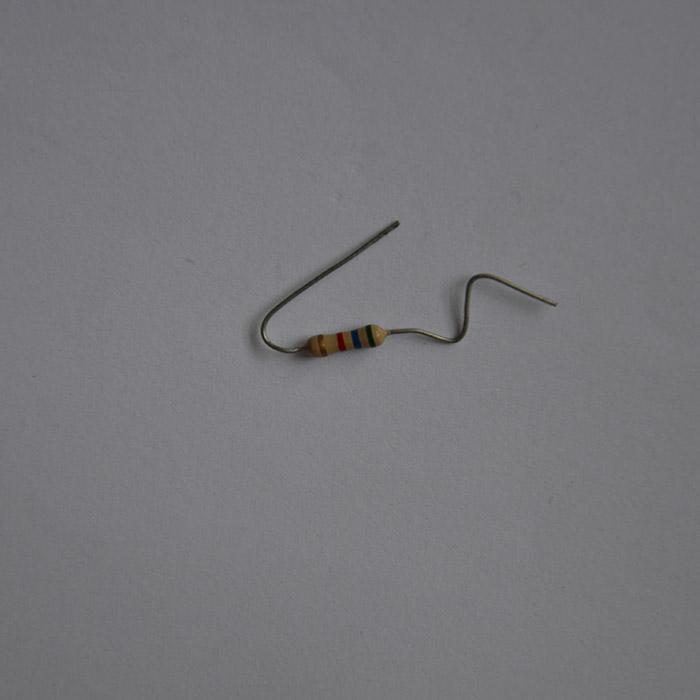resistor: (304, 324, 389, 357)
